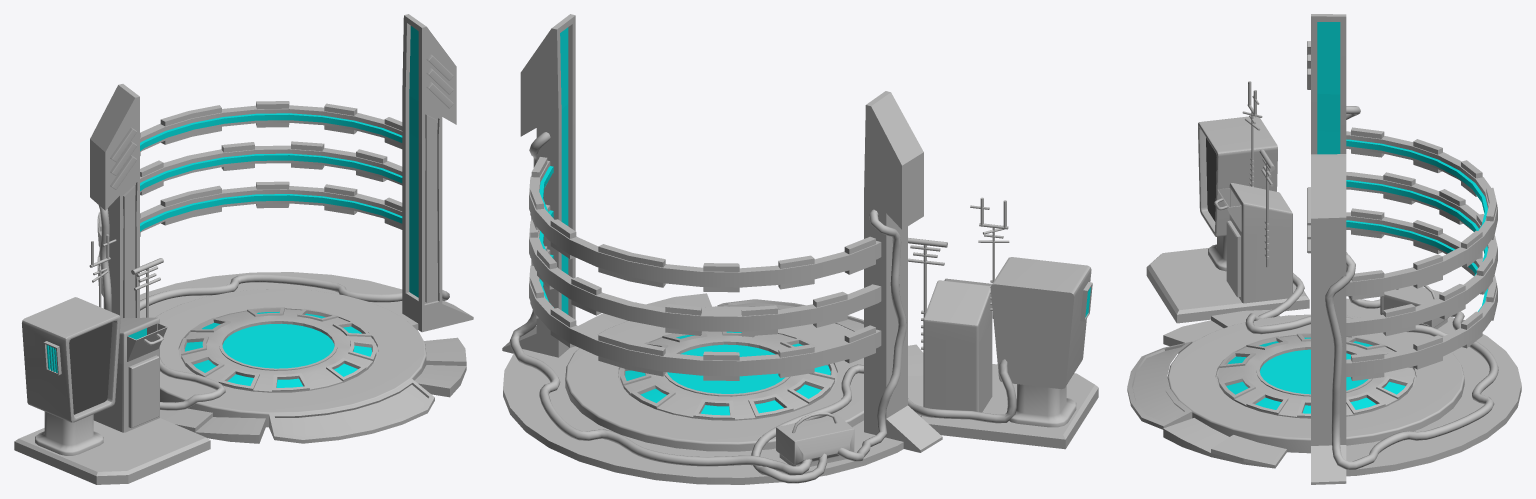
The model's file is DropOffMachine.fbx.
The picture shows the model from 3 angles, left to right: view 1: azimuth 30°, elevation 25°; view 2: azimuth 150°, elevation 25°; view 3: azimuth 270°, elevation 25°; orthographic projection. The views are drawn at different scales.
Parts seen in each view (by area): view 1: DropOffMachine_Low; view 2: DropOffMachine_Low; view 3: DropOffMachine_Low.
Boxes of the visible parts, x1,y1,x2,y2 form: DropOffMachine_Low: (14, 14, 473, 484); DropOffMachine_Low: (502, 14, 1098, 484); DropOffMachine_Low: (1127, 14, 1521, 484).
Size of the model in its own units: 3.86 by 2.35 by 2.74.
